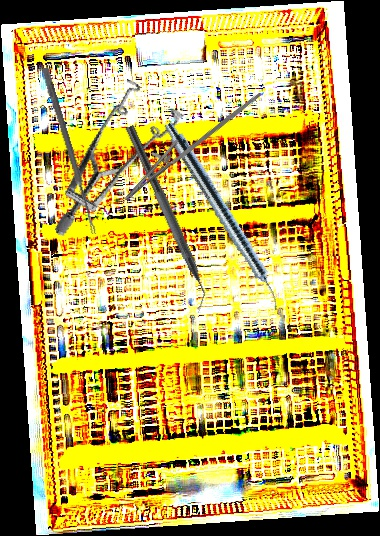Chopper: (113, 124, 218, 315)
Handpiece: (158, 119, 289, 313)
Needle Holder: (114, 69, 262, 216)
Speculum: (14, 65, 209, 238)
Surgical Spoon: (40, 67, 99, 235)
